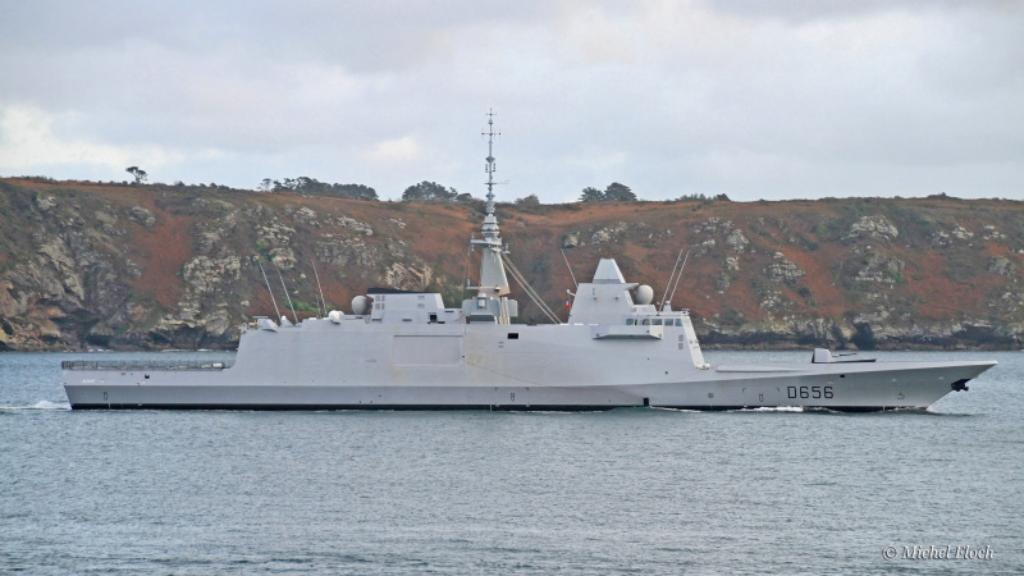Warship: (54, 100, 1000, 418)
